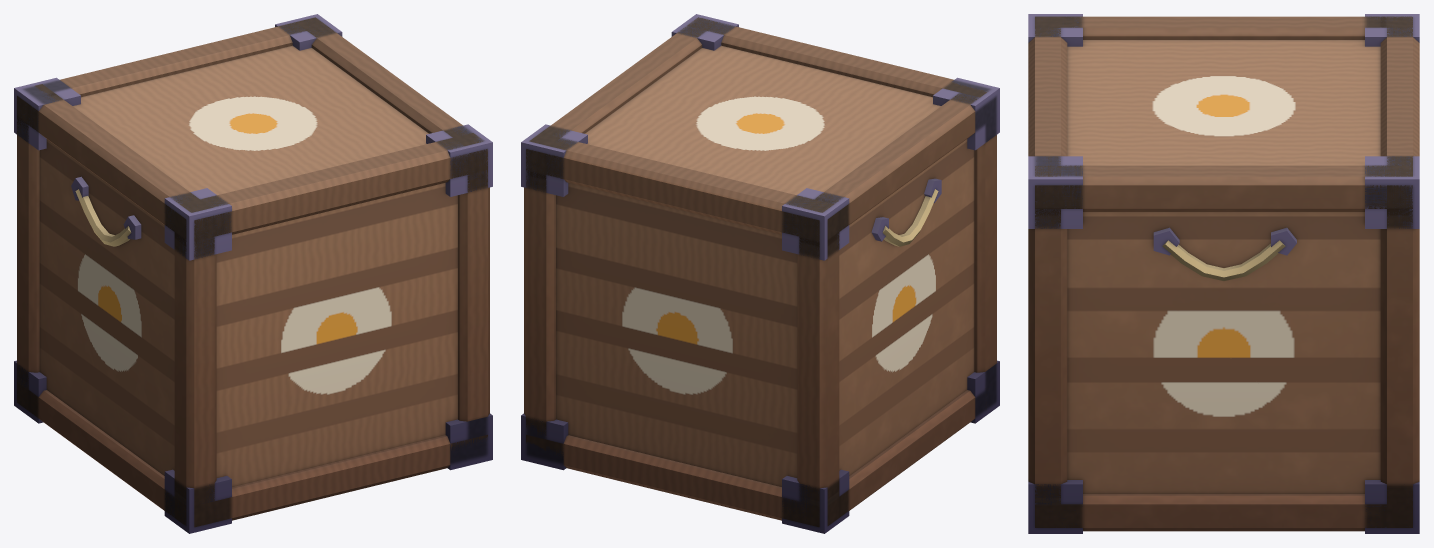
The model's file is item_supply_crate.fbx.
3 renders of one model, left to right at view 1: azimuth 30°, elevation 25°; view 2: azimuth 150°, elevation 25°; view 3: azimuth 270°, elevation 25°, orthographic. The views are drawn at different scales.
Visible parts, largest first — view 1: item_supply_crate; view 2: item_supply_crate; view 3: item_supply_crate.
Boxes of the visible parts, bbox=[...] form: item_supply_crate: bbox=[14, 14, 492, 533]; item_supply_crate: bbox=[521, 14, 999, 533]; item_supply_crate: bbox=[1028, 14, 1419, 533].
Bounding box in the file's own units: 300 × 300 × 300.
1 material, 1 textured.
